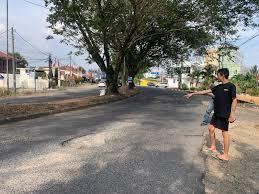Pothole: (60, 131, 111, 151)
